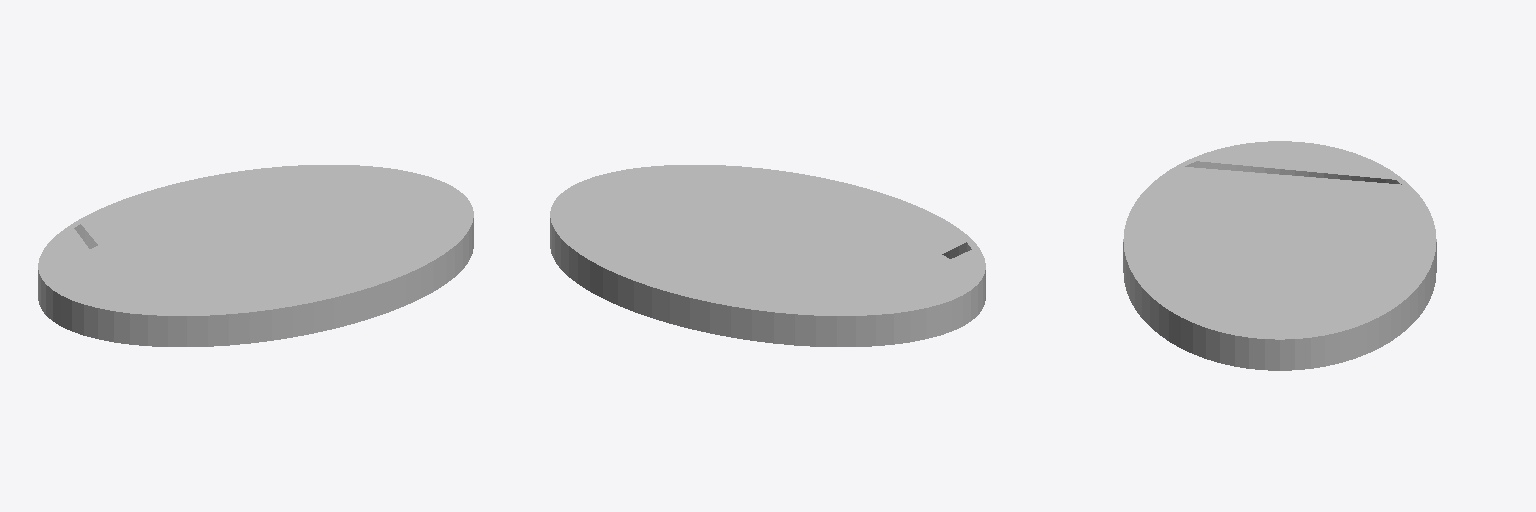
File: headband_oval.obj
3 views of the same model, side by side, from view 1: azimuth 30°, elevation 25°; view 2: azimuth 150°, elevation 25°; view 3: azimuth 270°, elevation 25° (orthographic).
Parts seen in each view (by area): view 1: Outer_Headband; view 2: Outer_Headband; view 3: Outer_Headband.
Part boxes in pixels (x1,y1,x2,y2): Outer_Headband: (38, 165, 473, 346); Outer_Headband: (550, 165, 985, 346); Outer_Headband: (1123, 141, 1436, 370).
Bounding box in the file's own units: 15 × 1.1 × 10.